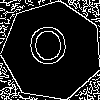O: (27, 26, 70, 74)
